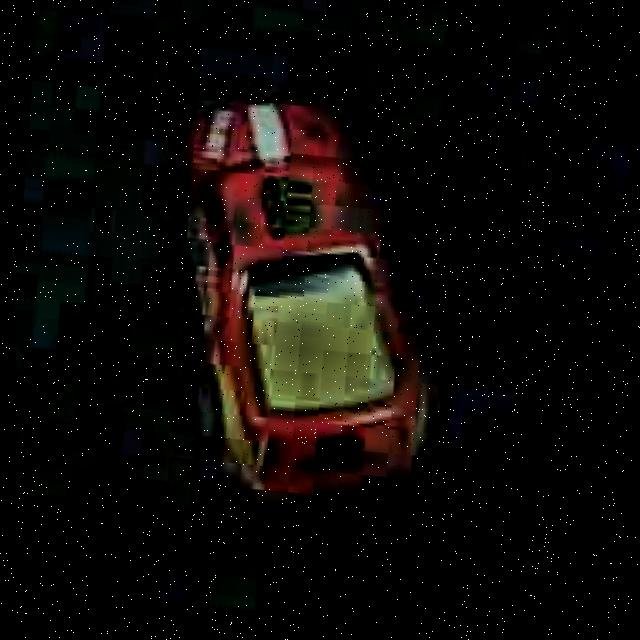car: (126, 80, 474, 525)
